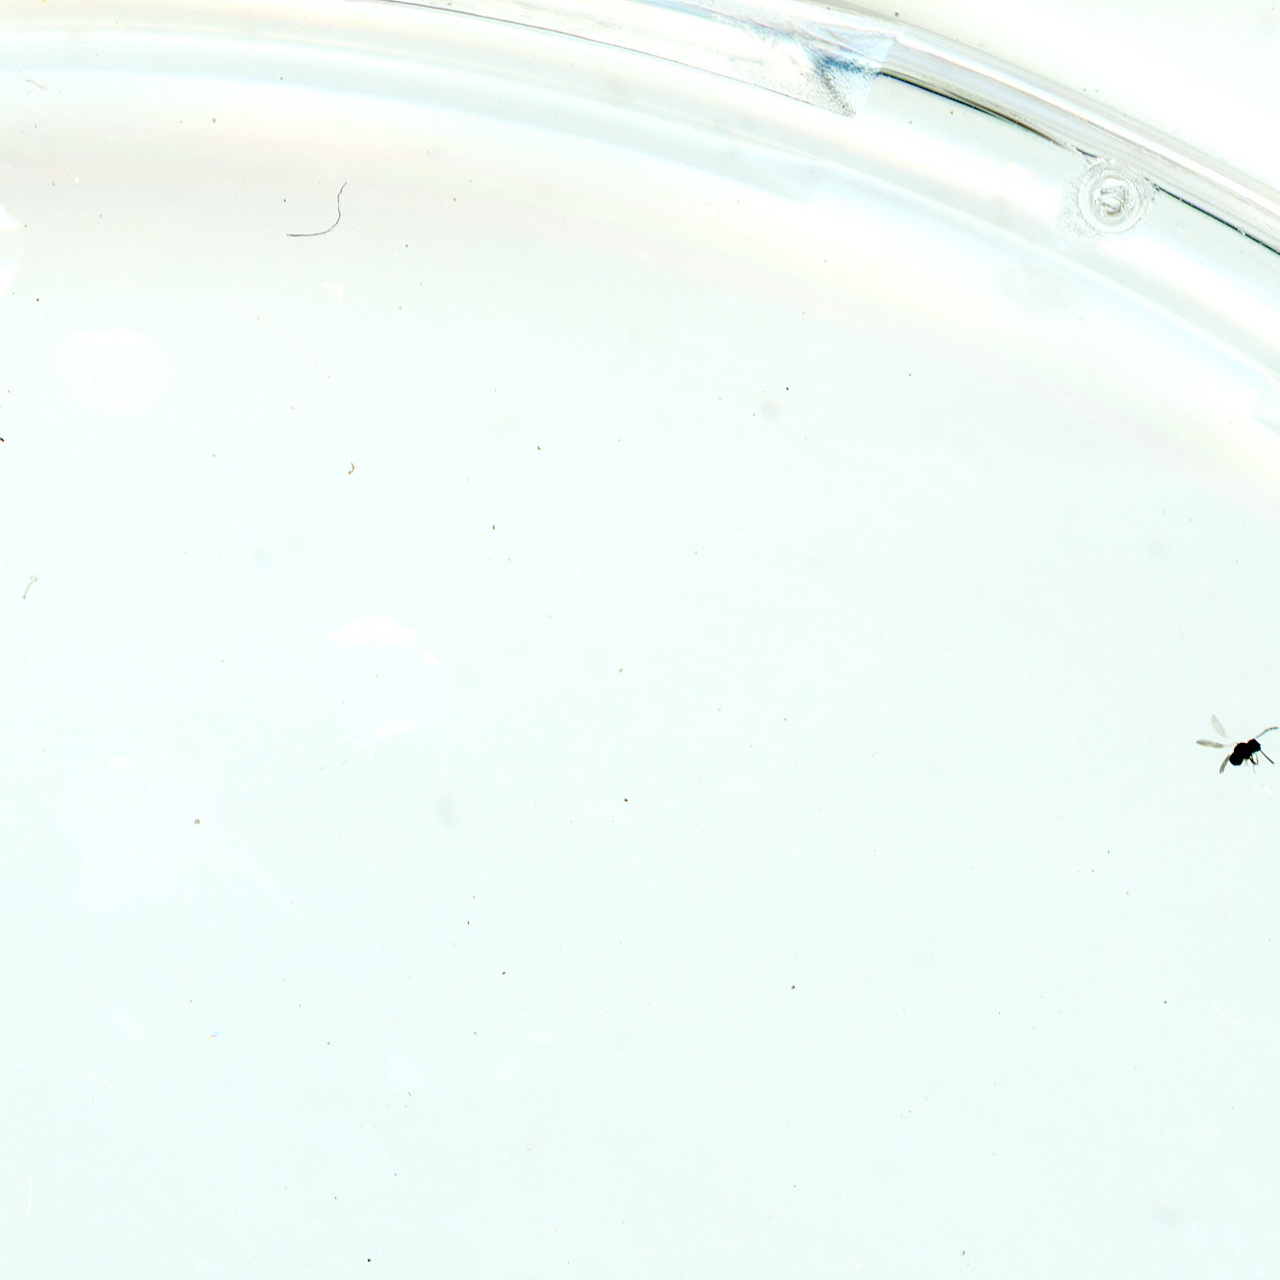arthropod: (1191, 712, 1280, 780)
